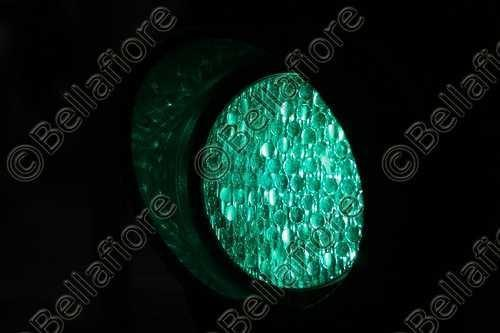red traffic light: (193, 65, 370, 300)
